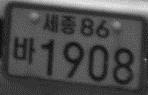0: (86, 43, 109, 82)
1: (40, 38, 55, 77)
6: (94, 18, 110, 39)
8: (111, 47, 135, 84), (79, 17, 95, 37)
9: (61, 40, 85, 79)
바: (12, 35, 36, 65)
세종_H: (41, 11, 76, 36)
